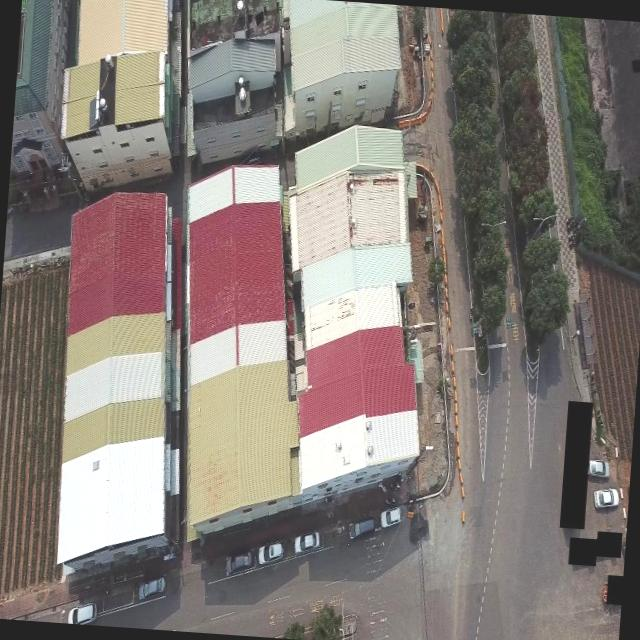car: (133, 572, 173, 602), (219, 549, 254, 577), (256, 538, 284, 569), (346, 514, 376, 542), (68, 598, 97, 624), (294, 530, 322, 556), (592, 486, 620, 512), (588, 454, 612, 482), (380, 504, 404, 530)
